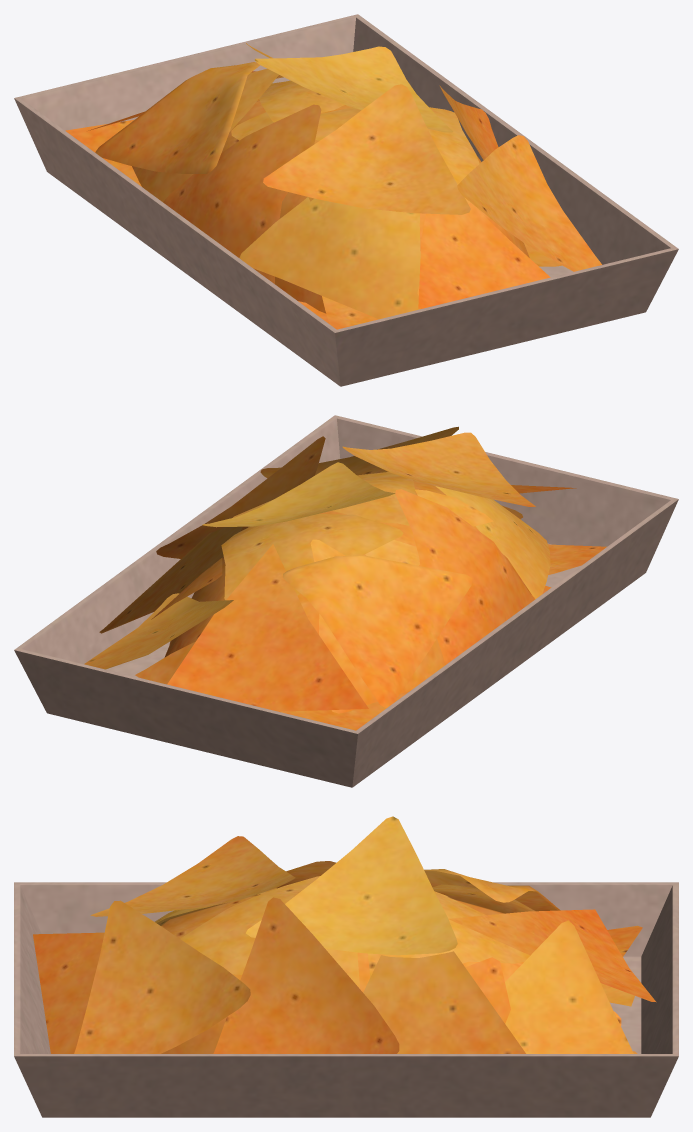
Rendered from Nacho_1.fbx.
3 views of the same model, one above another, from view 1: azimuth 30°, elevation 25°; view 2: azimuth 150°, elevation 25°; view 3: azimuth 270°, elevation 25° (orthographic). The views are drawn at different scales.
Visible parts, largest first — view 1: Nacho_1; view 2: Nacho_1; view 3: Nacho_1.
Boxes of the visible parts, left/top/right/bottom form: Nacho_1: left=14, top=14, right=678, bottom=386; Nacho_1: left=14, top=415, right=678, bottom=787; Nacho_1: left=14, top=816, right=678, bottom=1117.
Size of the model in its own units: 51.86 by 26.26 by 83.8.
1 material, 1 textured.
